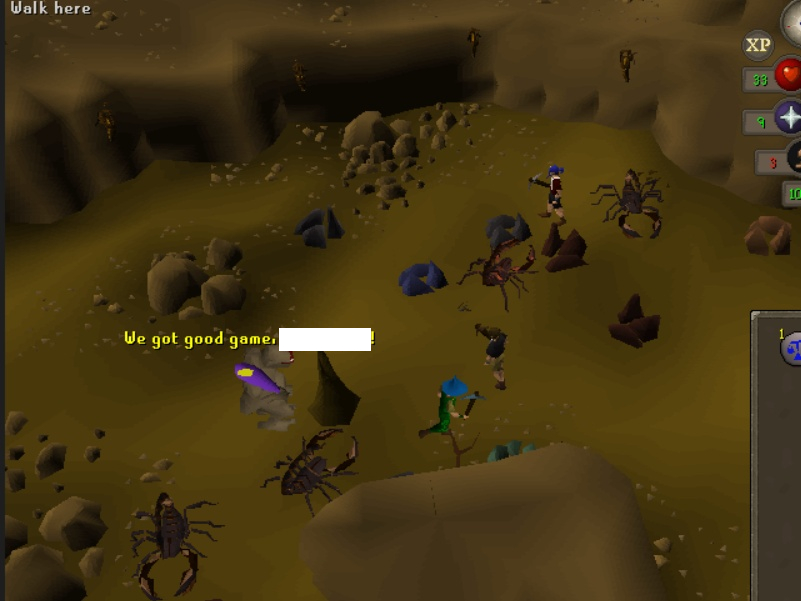copper: (741, 205, 798, 261)
iron: (538, 215, 600, 280), (604, 284, 666, 349)
mithril: (394, 248, 450, 301)
